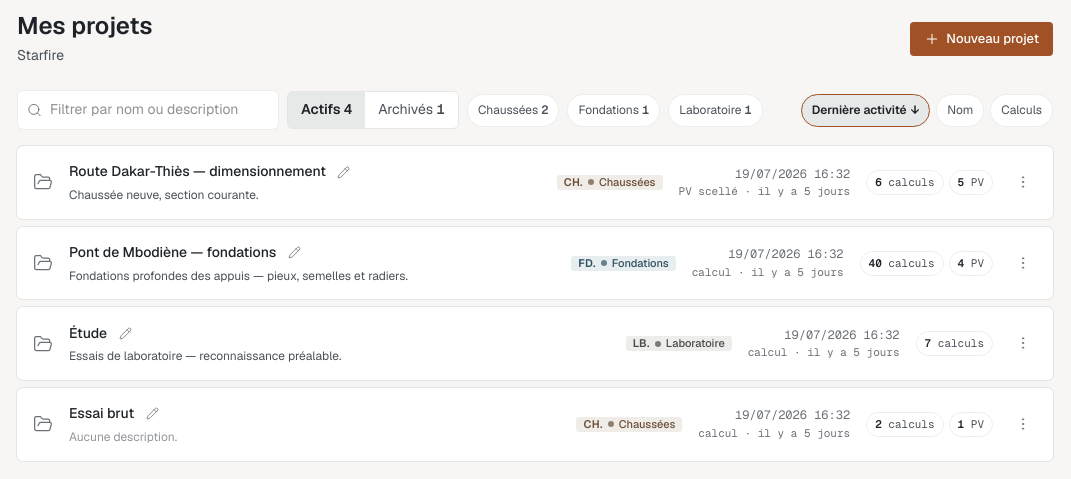
Test: Liste des projets — affordances d’écriture selon le rôle (confort, pas sécurité) › #2 (contrôle positif) GIVEN un membre OWNER — WHEN la liste s’affiche — THEN les boutons d’écriture SONT rendus
Expected: the button named "Renommer le projet Route Dakar-Thiès — dimensionnement" is shown, top-left (332, 160), bottom-right (356, 184)
Expected: the button named "Actions sur le projet Route Dakar-Thiès — dimensionnement" is shown, top-left (1009, 168), bottom-right (1037, 196)
What coordinates should you click on to do the following:
click the button "Archivés 1"
I would click on:
 (412, 110)
Its box is top-left (365, 92), bottom-right (458, 128).
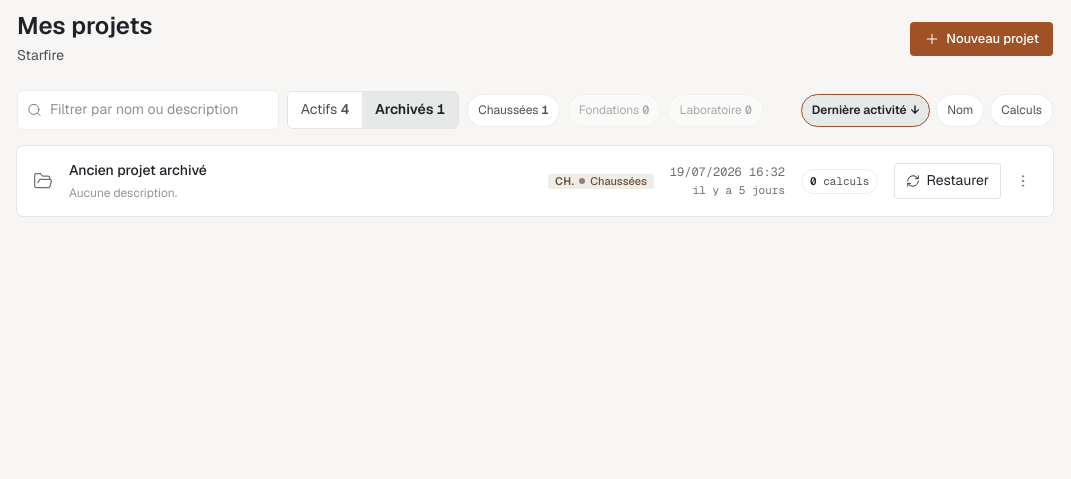
Result: the button "Restaurer" is shown at top-left (894, 164), bottom-right (1001, 199)
